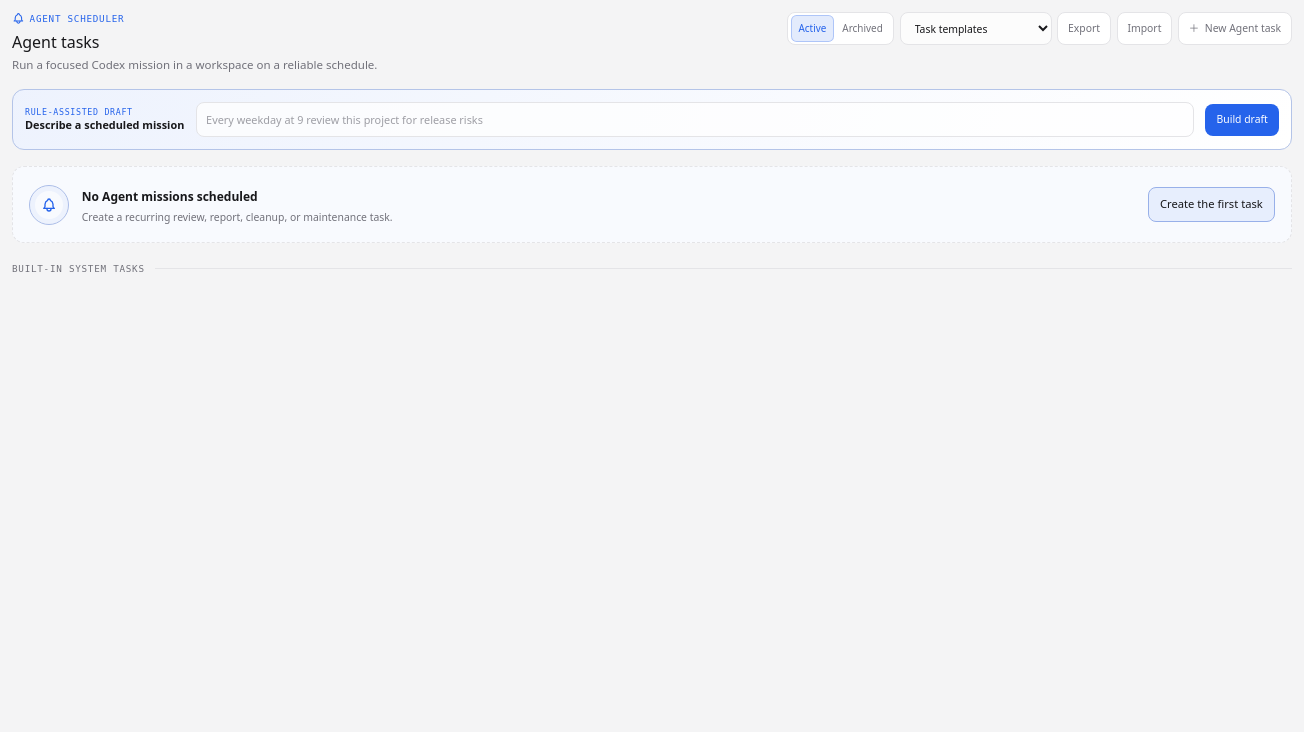
Test: AgentTasksPanel › guides the first task and opens a safe task editor
Click the button "Create the first task".
click(1211, 205)  # box x1=1148 y1=187 x2=1275 y2=222
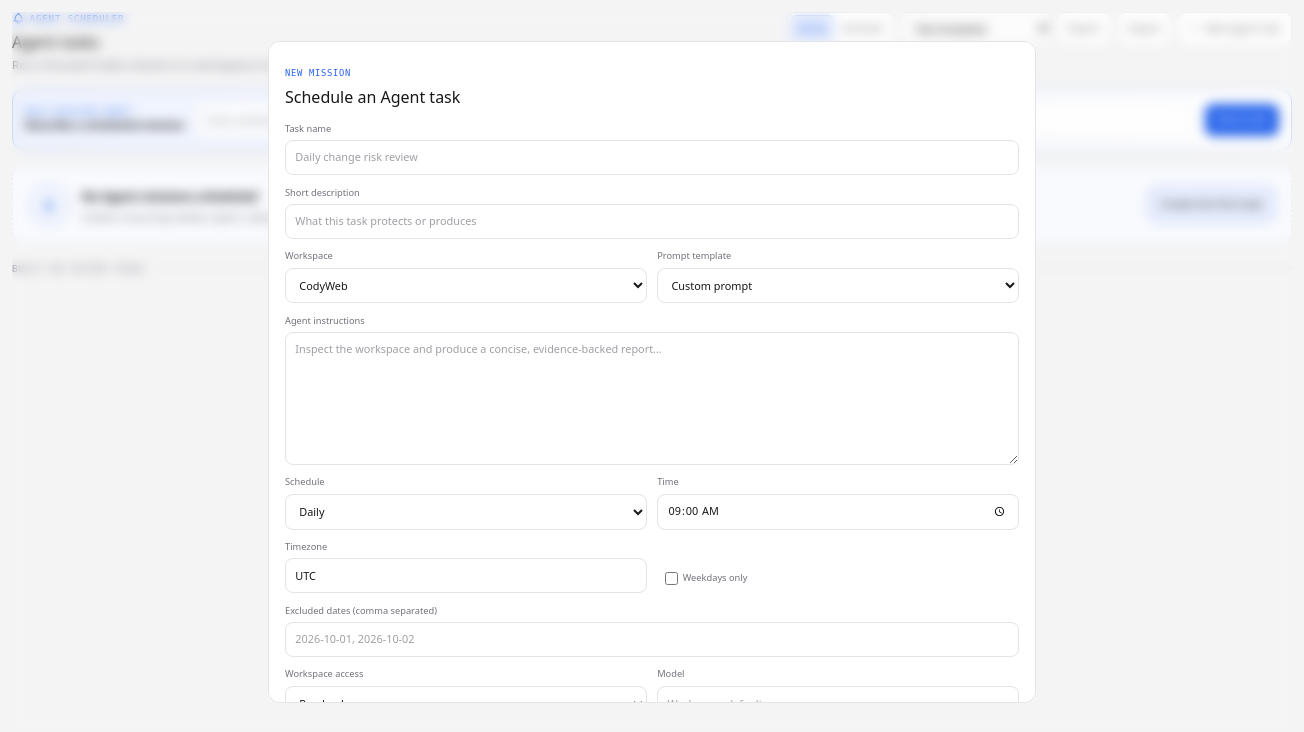
Now the form with class "agent-task-editor" is shown, box x1=268 y1=41 x2=1036 y2=703
Now the dropdown labelled "Workspace" shows "CodyWeb", box x1=285 y1=268 x2=647 y2=303
